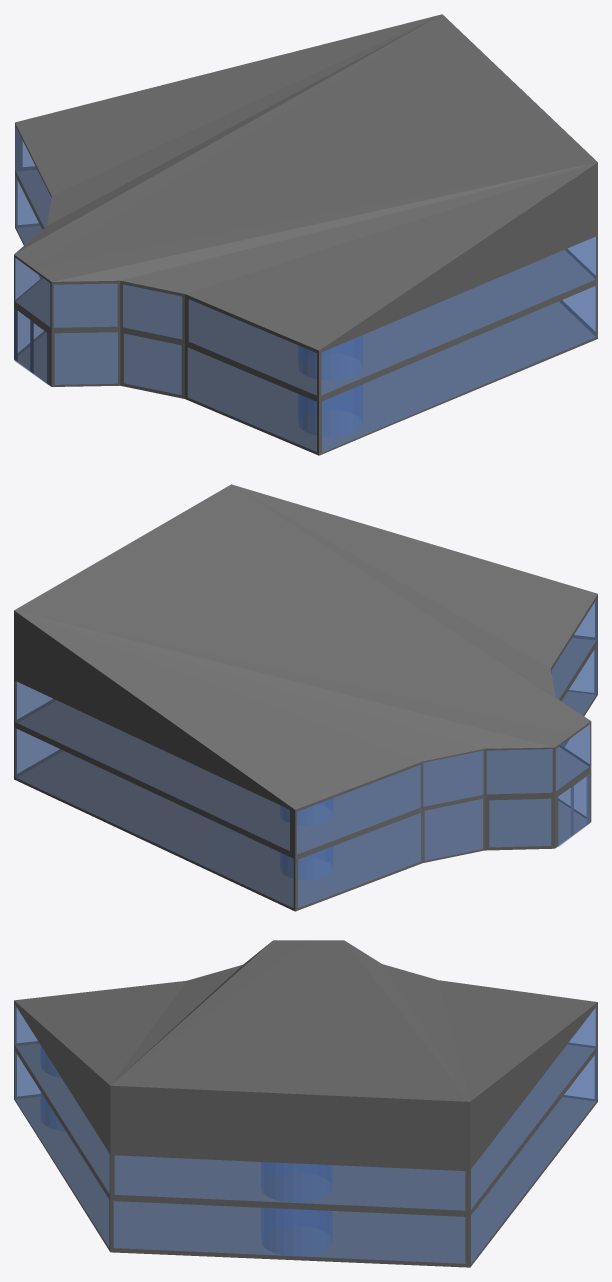
The model's file is Airport buildingv3.fbx.
The picture shows the model from 3 angles, top to bottom: view 1: azimuth 30°, elevation 25°; view 2: azimuth 150°, elevation 25°; view 3: azimuth 270°, elevation 25°; orthographic projection. The views are drawn at different scales.
Visible parts, largest first — view 1: Model; view 2: Model; view 3: Model.
Part boxes in pixels (x1=…): Model: x1=14, y1=14, x2=597, y2=455; Model: x1=14, y1=484, x2=597, y2=911; Model: x1=14, y1=940, x2=597, y2=1267.
Bounding box in the file's own units: 1162 × 395 × 1253.
